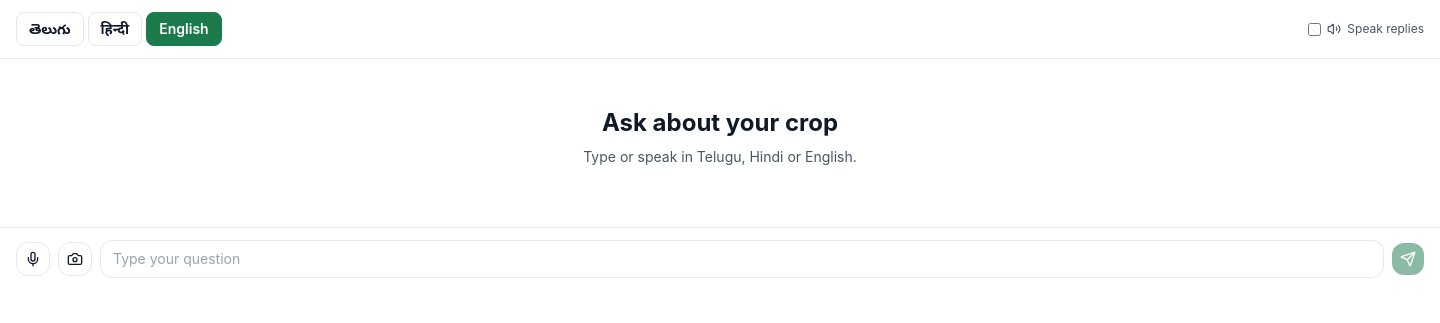
Test: FarmerChat › thumbs-down asks for a reason and submits it
Step 1. Type "question" into the field → {"x": 742, "y": 259}, box [100,240,1384,278]
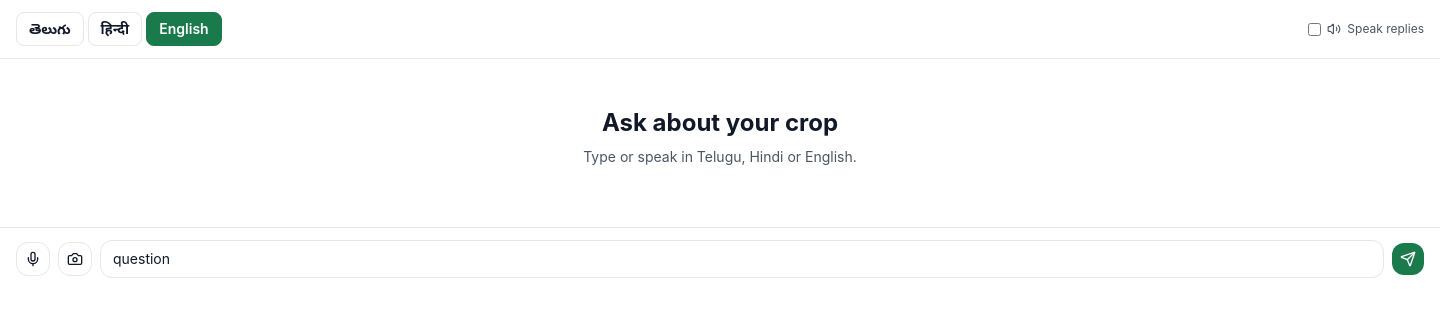
Step 2. Submit the form, box [0,227,1439,290]
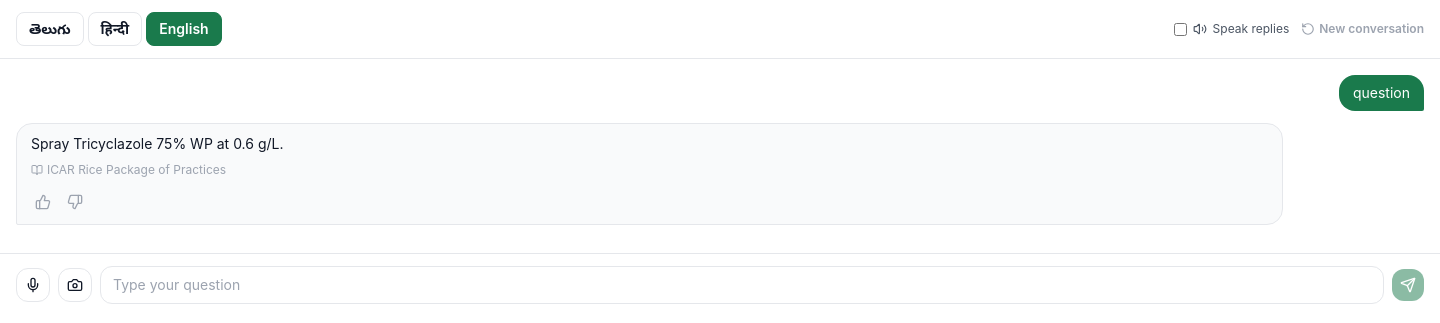
Step 3. Click the button named "Not helpful" → {"x": 75, "y": 202}, box [63,190,87,214]
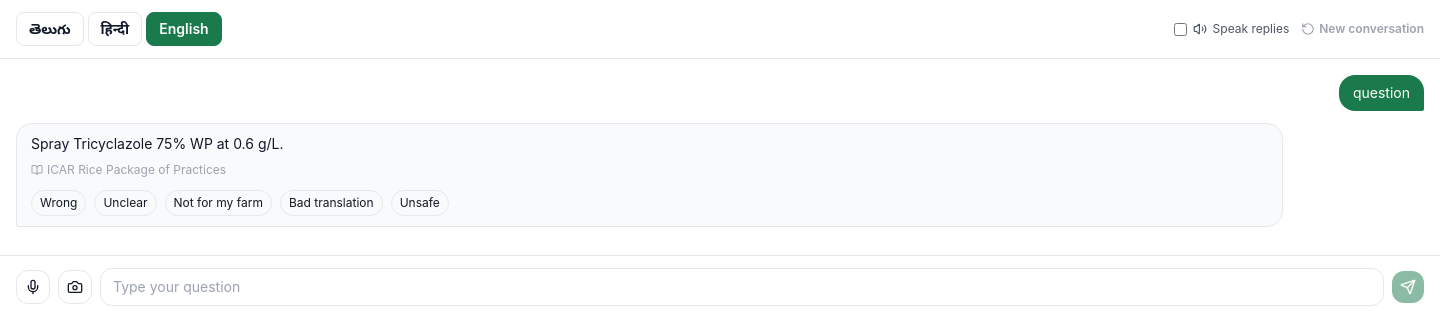
Step 4. Click the button "Wrong" → {"x": 59, "y": 203}, box [31,190,86,216]
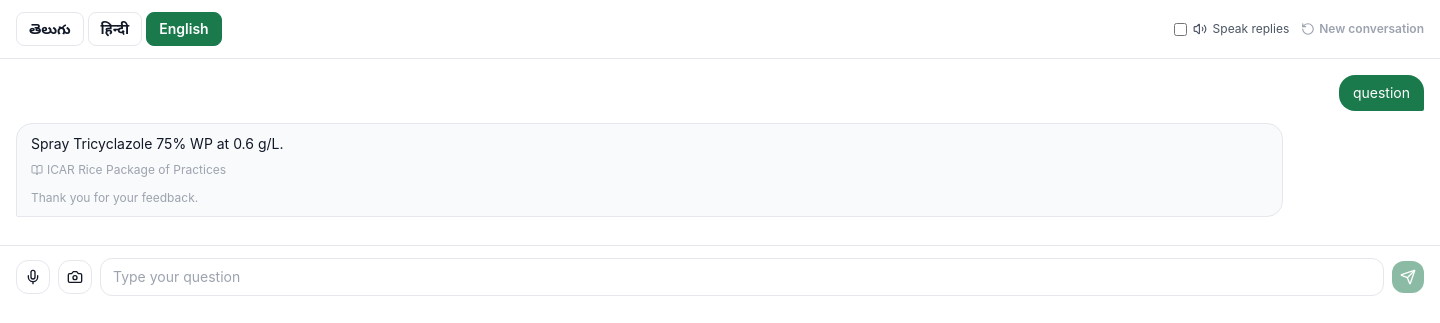
Now the text "Thank you for your feedback." is shown, box [31,190,198,206]
